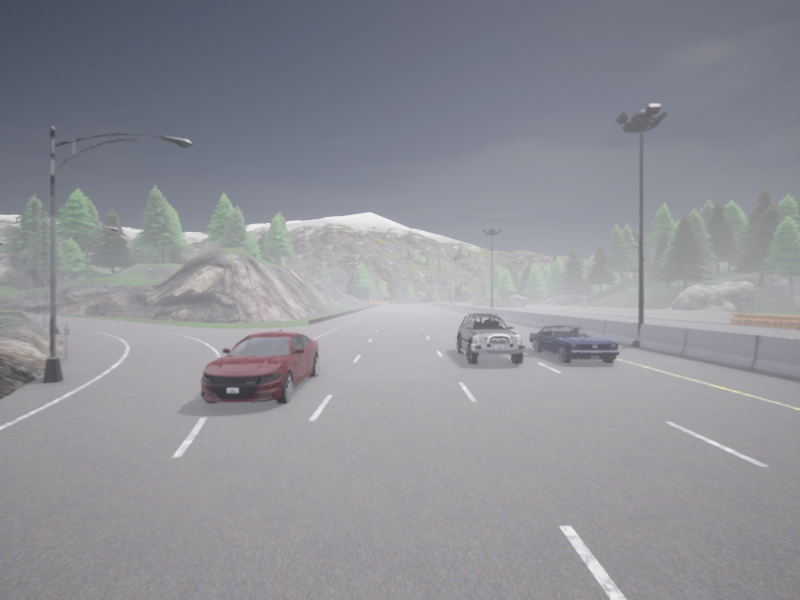vehicle: (201, 329, 318, 403), (456, 313, 525, 364), (529, 325, 619, 363), (451, 299, 456, 303)
